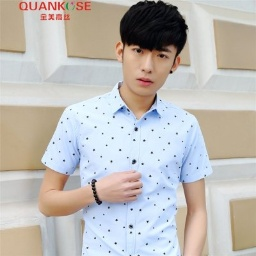face: (114, 1, 190, 100)
